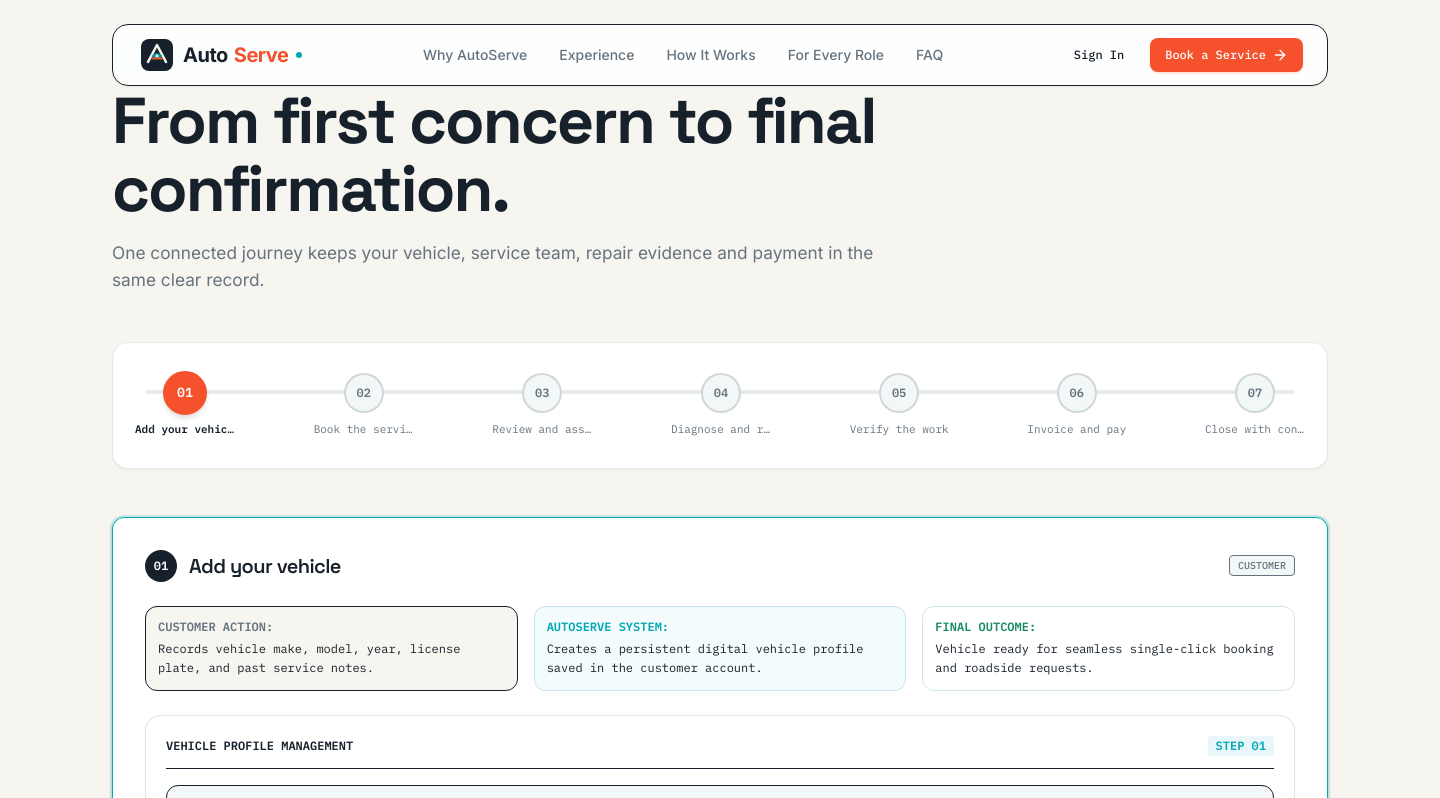
AutoServe Part 6D — Trust, Evidence, Payment & Roadside Tests › 6. selecting a journey step updates the active step preview content
(page scrolled)
Step 1. Click the button with aria-label "Step 02: Book the service" → (364, 405), box [308,367,420,444]
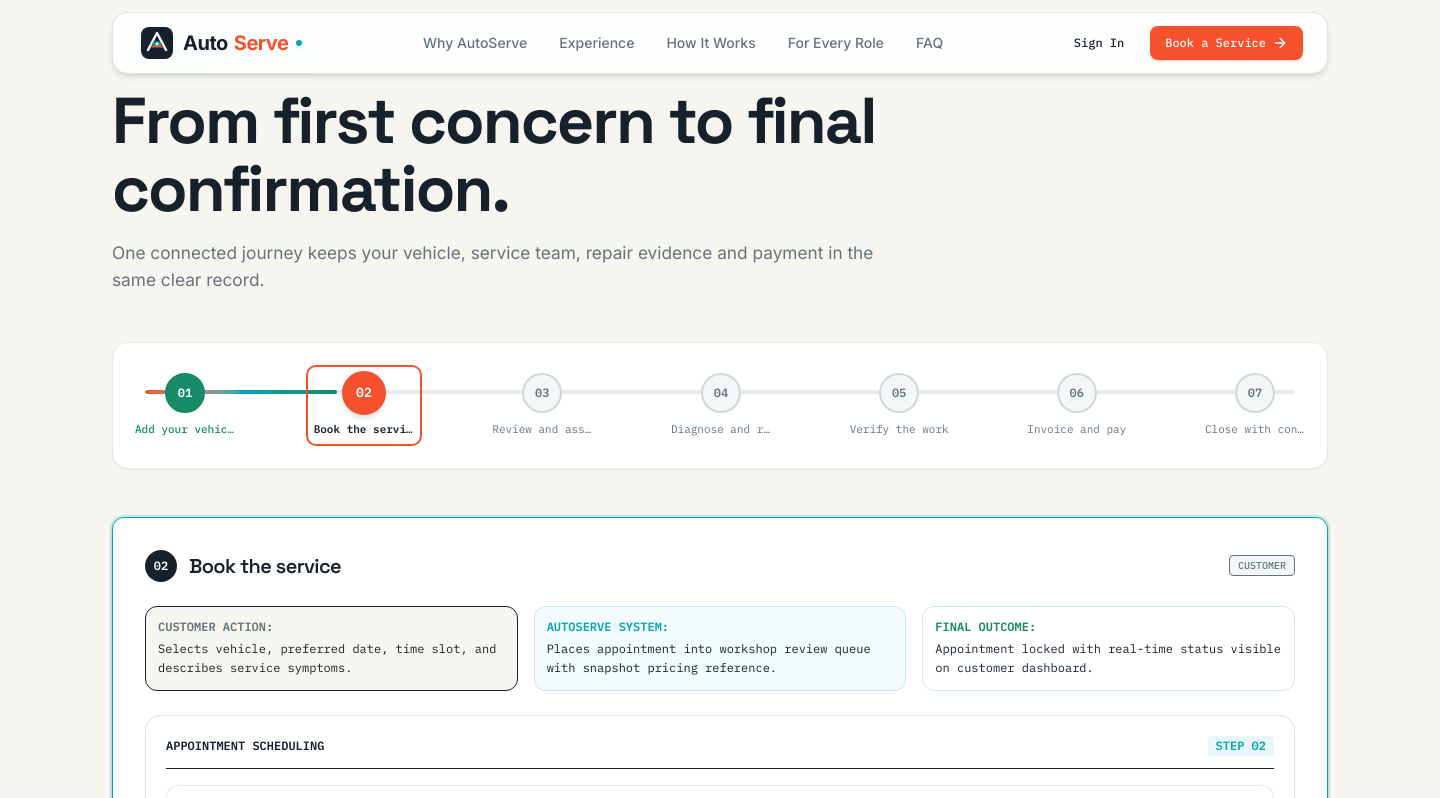
Expected: the text "APPOINTMENT SCHEDULING" is shown, [166,738,324,754]
